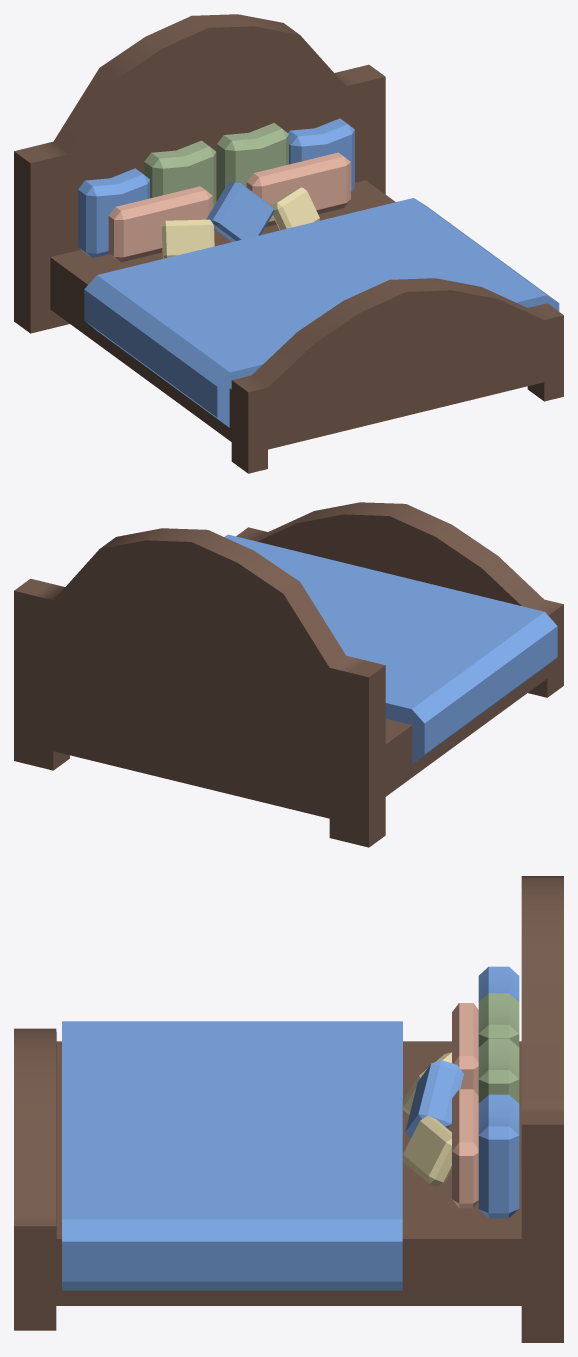
The model's file is geo_LowBed_01.fbx.
3 renders of one model, top to bottom at view 1: azimuth 30°, elevation 25°; view 2: azimuth 150°, elevation 25°; view 3: azimuth 270°, elevation 25°, orthographic. The views are drawn at different scales.
Parts seen in each view (by area): view 1: geo_BedFrame_01, geo_bedSheetMade_01, geo_bedsheetUnmade_01, geo_pillow_03, geo_pillow_04, geo_pillow_01, geo_pillow_07, geo_pillow_06, geo_pillow_02, geo_pillow_08, geo_pillow_05, geo_pillow_09; view 2: geo_BedFrame_01, geo_bedSheetMade_01, geo_bedsheetUnmade_01; view 3: geo_bedsheetUnmade_01, geo_bedSheetMade_01, geo_BedFrame_01, geo_pillow_08, geo_pillow_04, geo_pillow_02, geo_pillow_09, geo_pillow_07, geo_pillow_03, geo_pillow_06, geo_pillow_01.
Boxes of the visible parts, x1,y1,x2,y2 form: geo_BedFrame_01: (14, 14, 563, 473); geo_bedSheetMade_01: (84, 198, 545, 414); geo_bedsheetUnmade_01: (152, 220, 559, 427); geo_pillow_03: (108, 186, 212, 262); geo_pillow_04: (246, 152, 350, 226); geo_pillow_01: (78, 168, 149, 257); geo_pillow_07: (217, 123, 288, 200); geo_pillow_06: (144, 140, 216, 207); geo_pillow_02: (206, 181, 274, 241); geo_pillow_08: (288, 118, 354, 192); geo_pillow_05: (162, 219, 214, 258); geo_pillow_09: (271, 187, 319, 230); geo_BedFrame_01: (14, 502, 563, 847); geo_bedSheetMade_01: (225, 534, 557, 764); geo_bedsheetUnmade_01: (224, 535, 557, 705); geo_bedsheetUnmade_01: (62, 1021, 324, 1290); geo_bedSheetMade_01: (62, 1021, 402, 1290); geo_BedFrame_01: (14, 876, 563, 1342); geo_pillow_08: (478, 1094, 519, 1218); geo_pillow_04: (452, 1089, 478, 1208); geo_pillow_02: (405, 1060, 463, 1138); geo_pillow_09: (403, 1116, 451, 1186); geo_pillow_07: (478, 1038, 519, 1103); geo_pillow_03: (452, 1003, 478, 1095); geo_pillow_06: (478, 993, 519, 1047); geo_pillow_01: (478, 966, 519, 1001).
Size of the model in its own units: 180 by 127 by 188.
